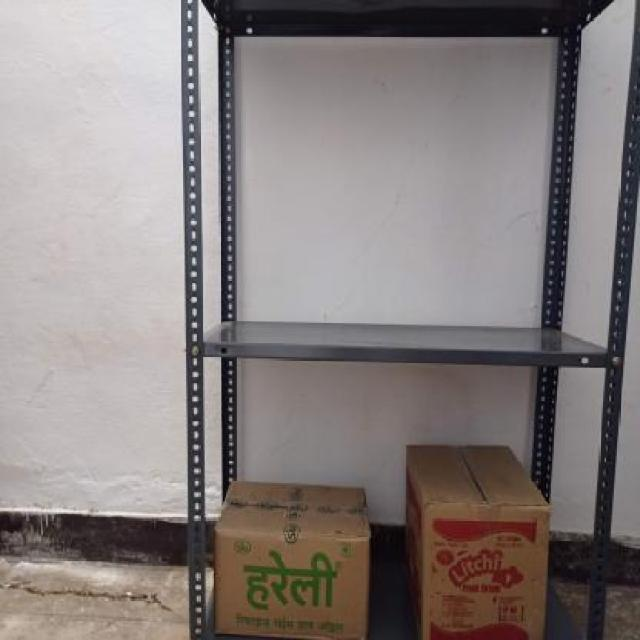box: (214, 527, 371, 638), (423, 503, 548, 640)
